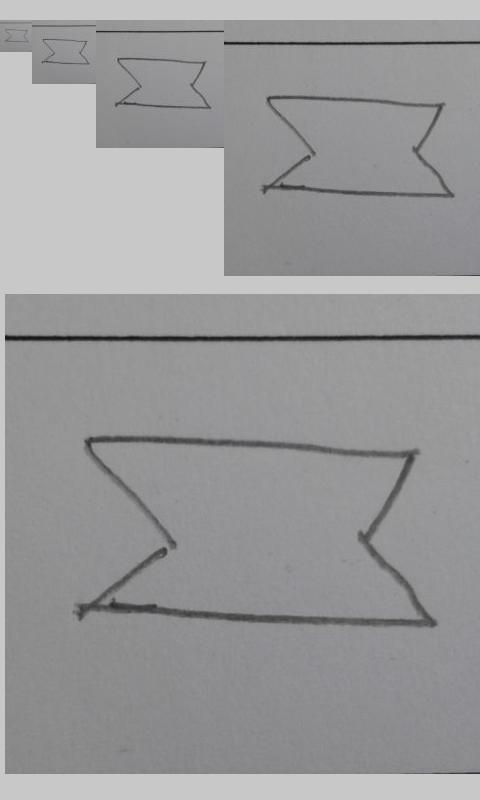edit_text: (79, 434, 437, 629), (264, 94, 454, 199), (115, 56, 210, 110), (41, 38, 89, 65), (4, 28, 29, 43)
